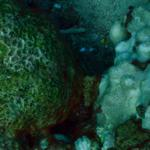dead: (1, 6, 145, 148)
